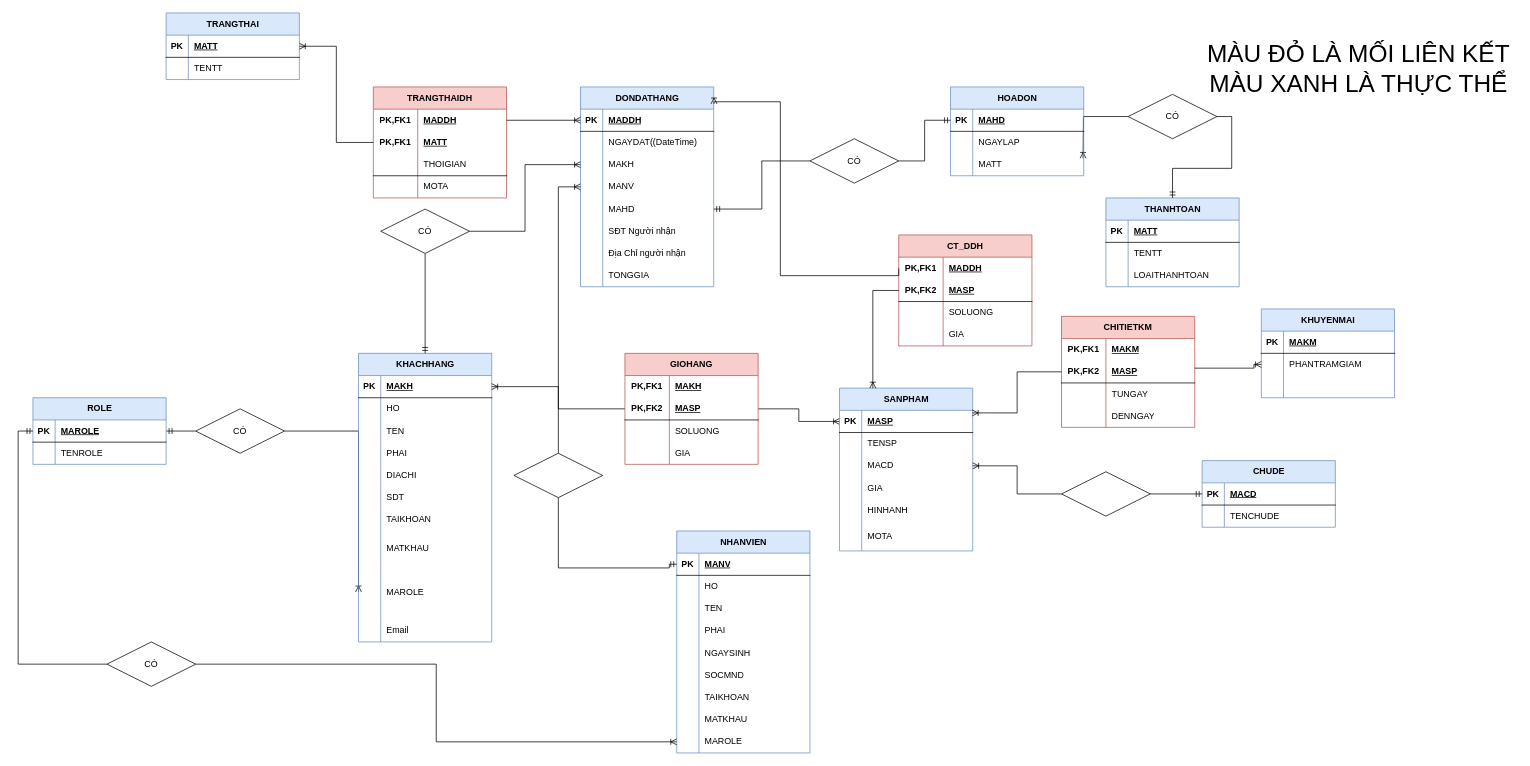
The diagram is 1530 pixels wide and 766 high, and some of its shapes have lost their labels. Here are the shapes that lost their labels. From the top down, the centre of each, then its label:
point (558, 475): XÁC NHẬN
point (1105, 493): THUỘC
